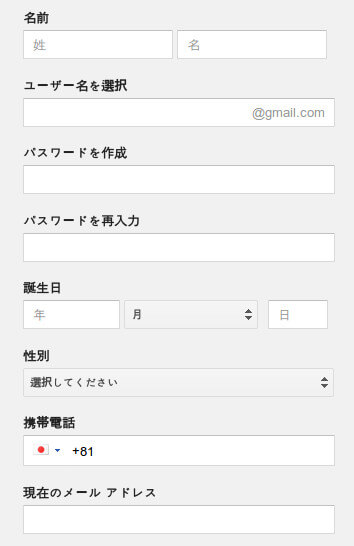dropdown: (22, 439, 65, 463)
textbox: (18, 93, 333, 140)
